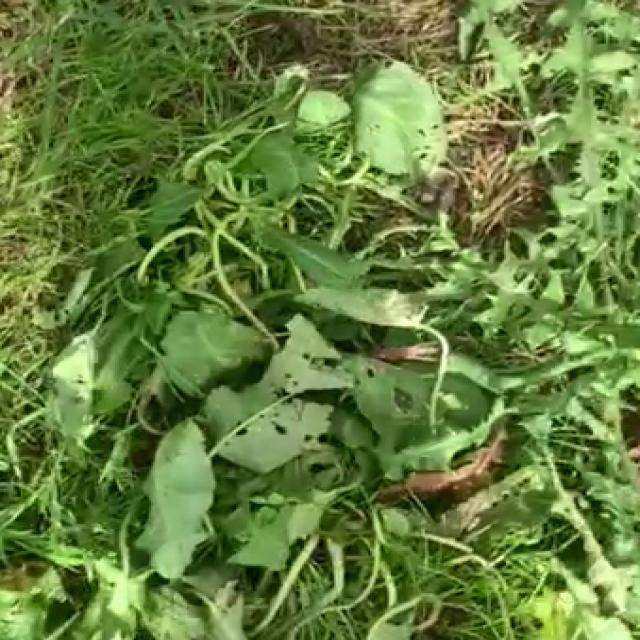organic waste: (71, 230, 640, 546), (96, 35, 566, 348)
